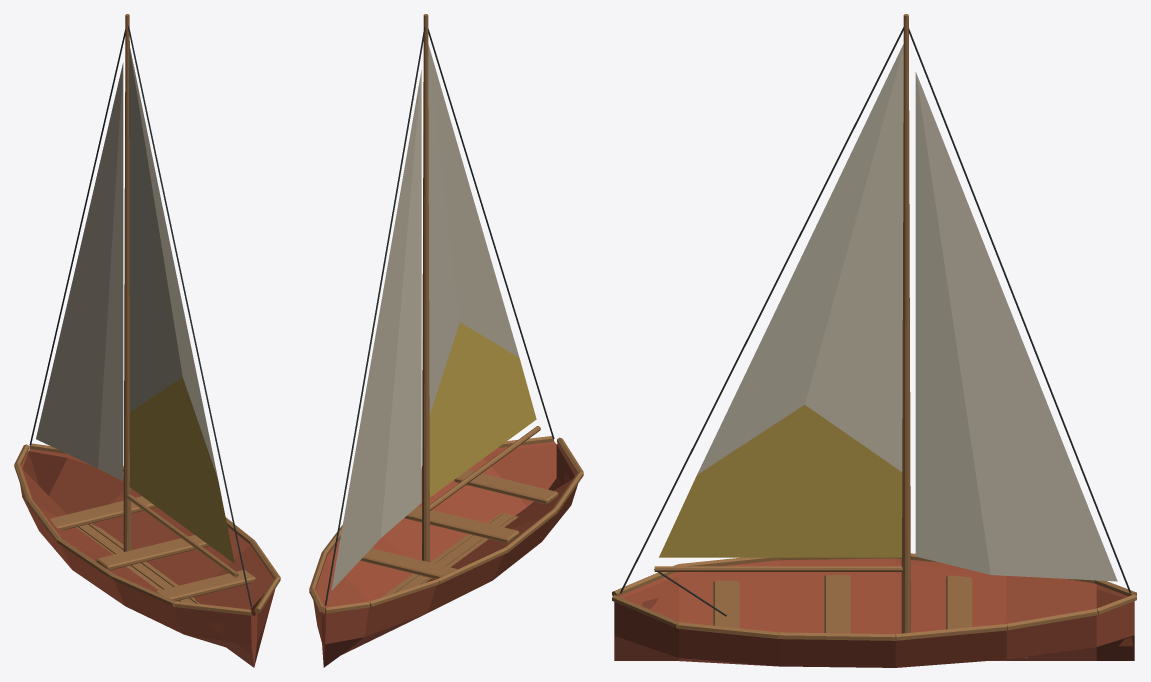
File: sailboat.glb
3 renders of one model, left to right at view 1: azimuth 30°, elevation 25°; view 2: azimuth 150°, elevation 25°; view 3: azimuth 270°, elevation 25°, orthographic. The views are drawn at different scales.
Visible parts, largest first — view 1: boat; view 2: boat; view 3: boat.
Boxes of the visible parts, x1,y1,x2,y2 form: boat: (14, 14, 280, 667); boat: (309, 14, 583, 667); boat: (612, 14, 1136, 667).
Size of the model in its own units: 1.9 by 6.74 by 4.96.
